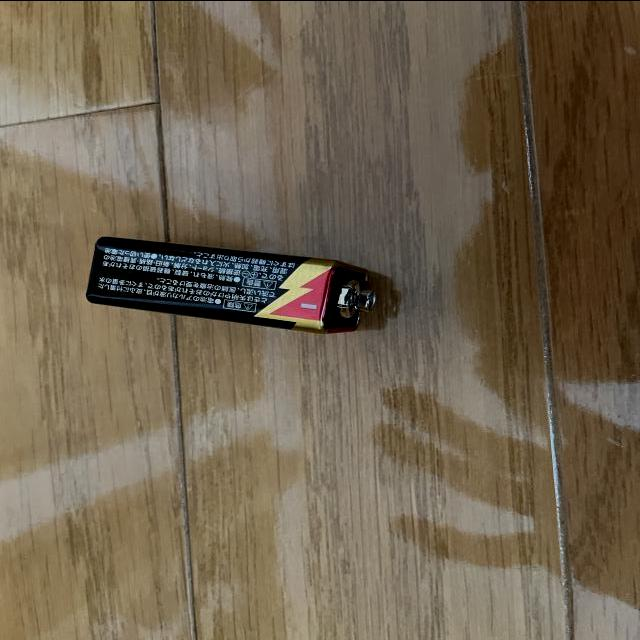9V: (86, 234, 377, 333)
